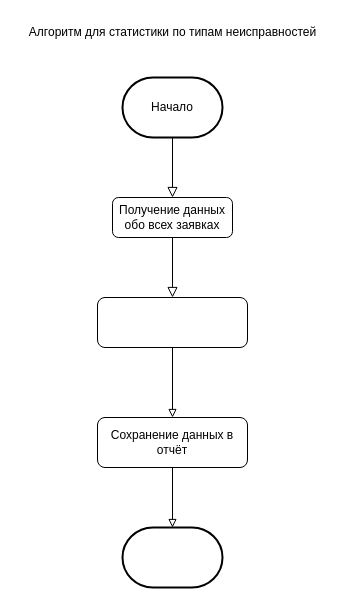
Image size: 344x605. Some labels were removed from this diagram. The shapes that lost their labels are listed below. From the top down, each one's centre as x and y in pixels, then its label:
At [172,322]: "Сортировка данных по типам неисправностей".
At [172,557]: "Конец".
